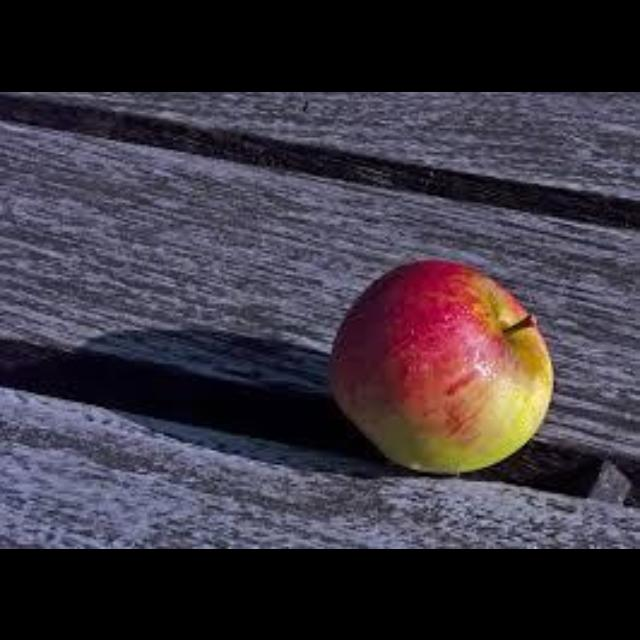apple: (330, 257, 551, 471)
